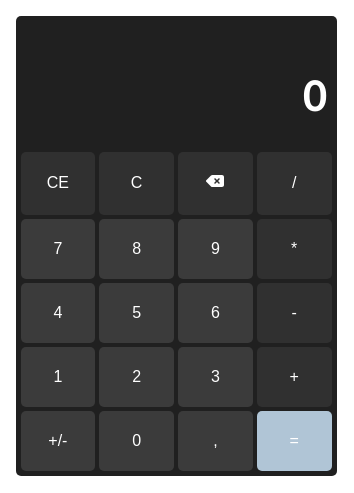
Test case: Click Events › should clear the last typed operator
Click the button "1" at (58, 377), box [20,347,95,407]
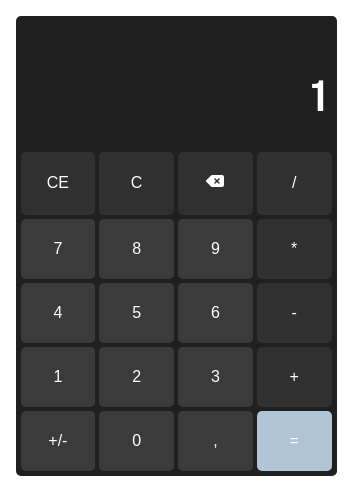
Click the button "+" at (294, 377), box [257,347,332,407]
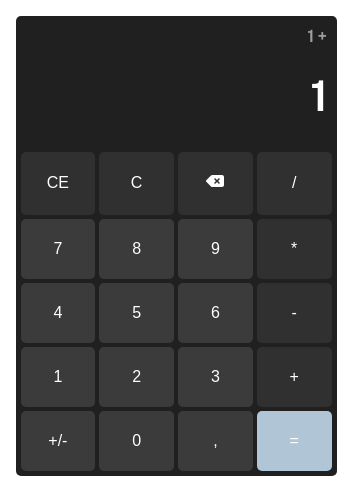
Click the button "CE" at (58, 183), box [20,152,95,214]
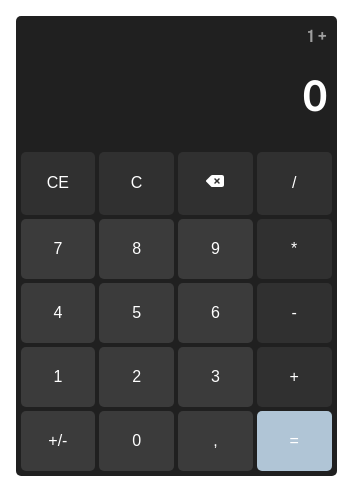
Click the button "-" at (294, 313), box [257,283,332,343]
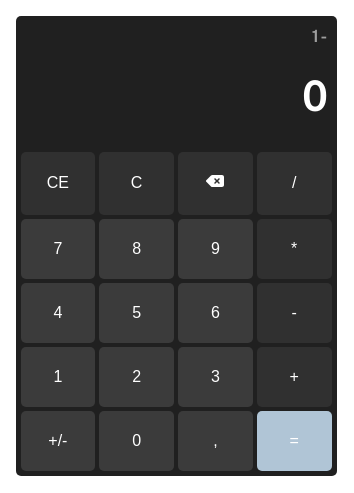
Click the button "1" at (58, 377), box [20,347,95,407]
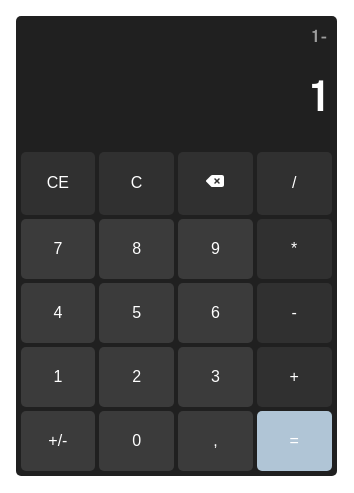
Now the heading "1 -" is shown, box [312,27,326,46]
Now the heading "1" is shown, box [310,73,326,120]
